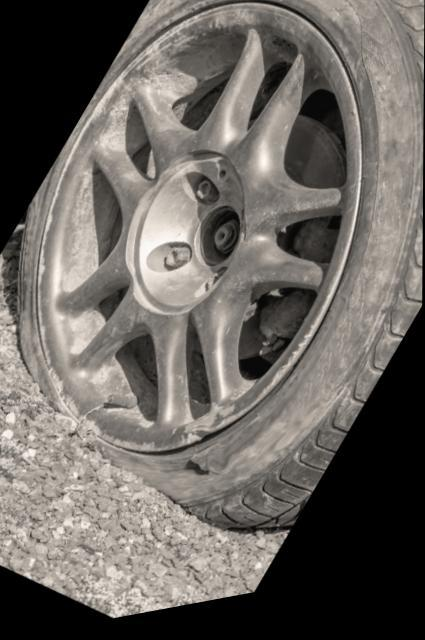tire flat: (16, 0, 425, 543)
